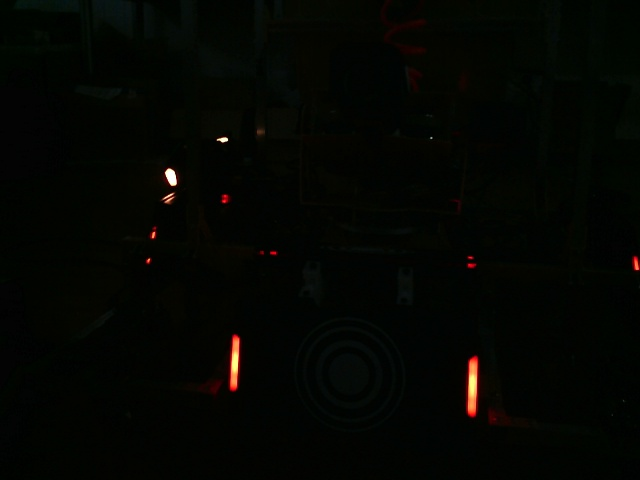lamp: (466, 353, 478, 418), (228, 332, 240, 393)
